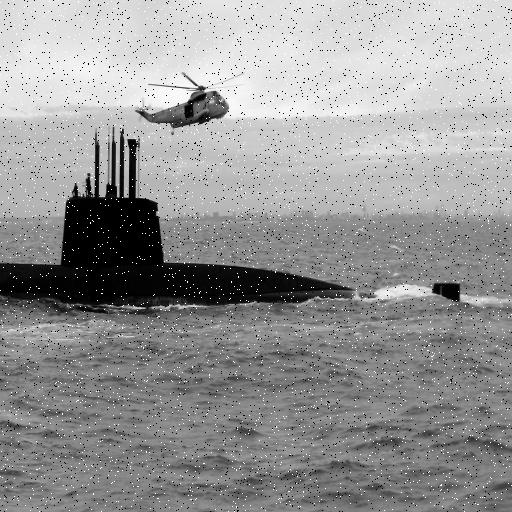helicopter: (136, 46, 257, 145)
submarine: (1, 114, 464, 335)
